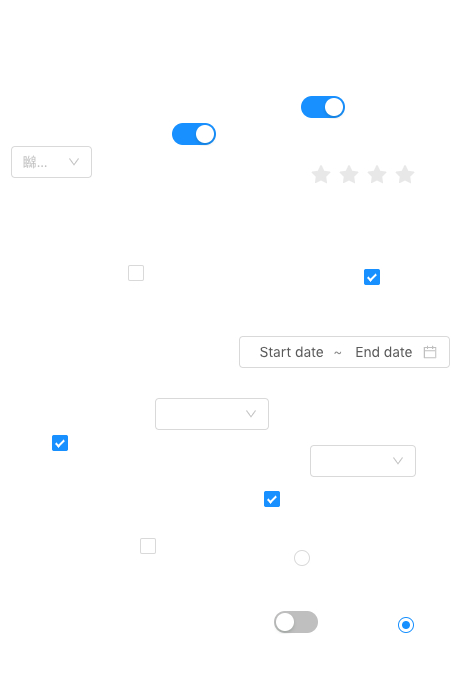Checkbox: (140, 535, 156, 556), (364, 266, 380, 287), (128, 262, 144, 283), (52, 432, 68, 453), (264, 488, 280, 509)
Radio: (294, 547, 310, 567), (398, 614, 414, 634)
RangePicker: (239, 336, 450, 368)
Rate: (311, 158, 431, 190)
Select: (155, 398, 269, 430), (310, 445, 416, 477), (11, 146, 92, 178)
Switch: (301, 95, 345, 119), (274, 610, 318, 634), (172, 122, 216, 146)
